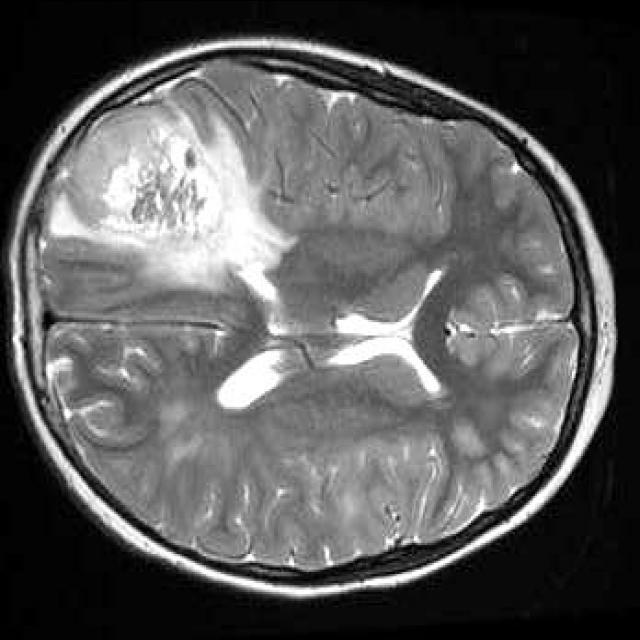tumor: (50, 80, 296, 299)
